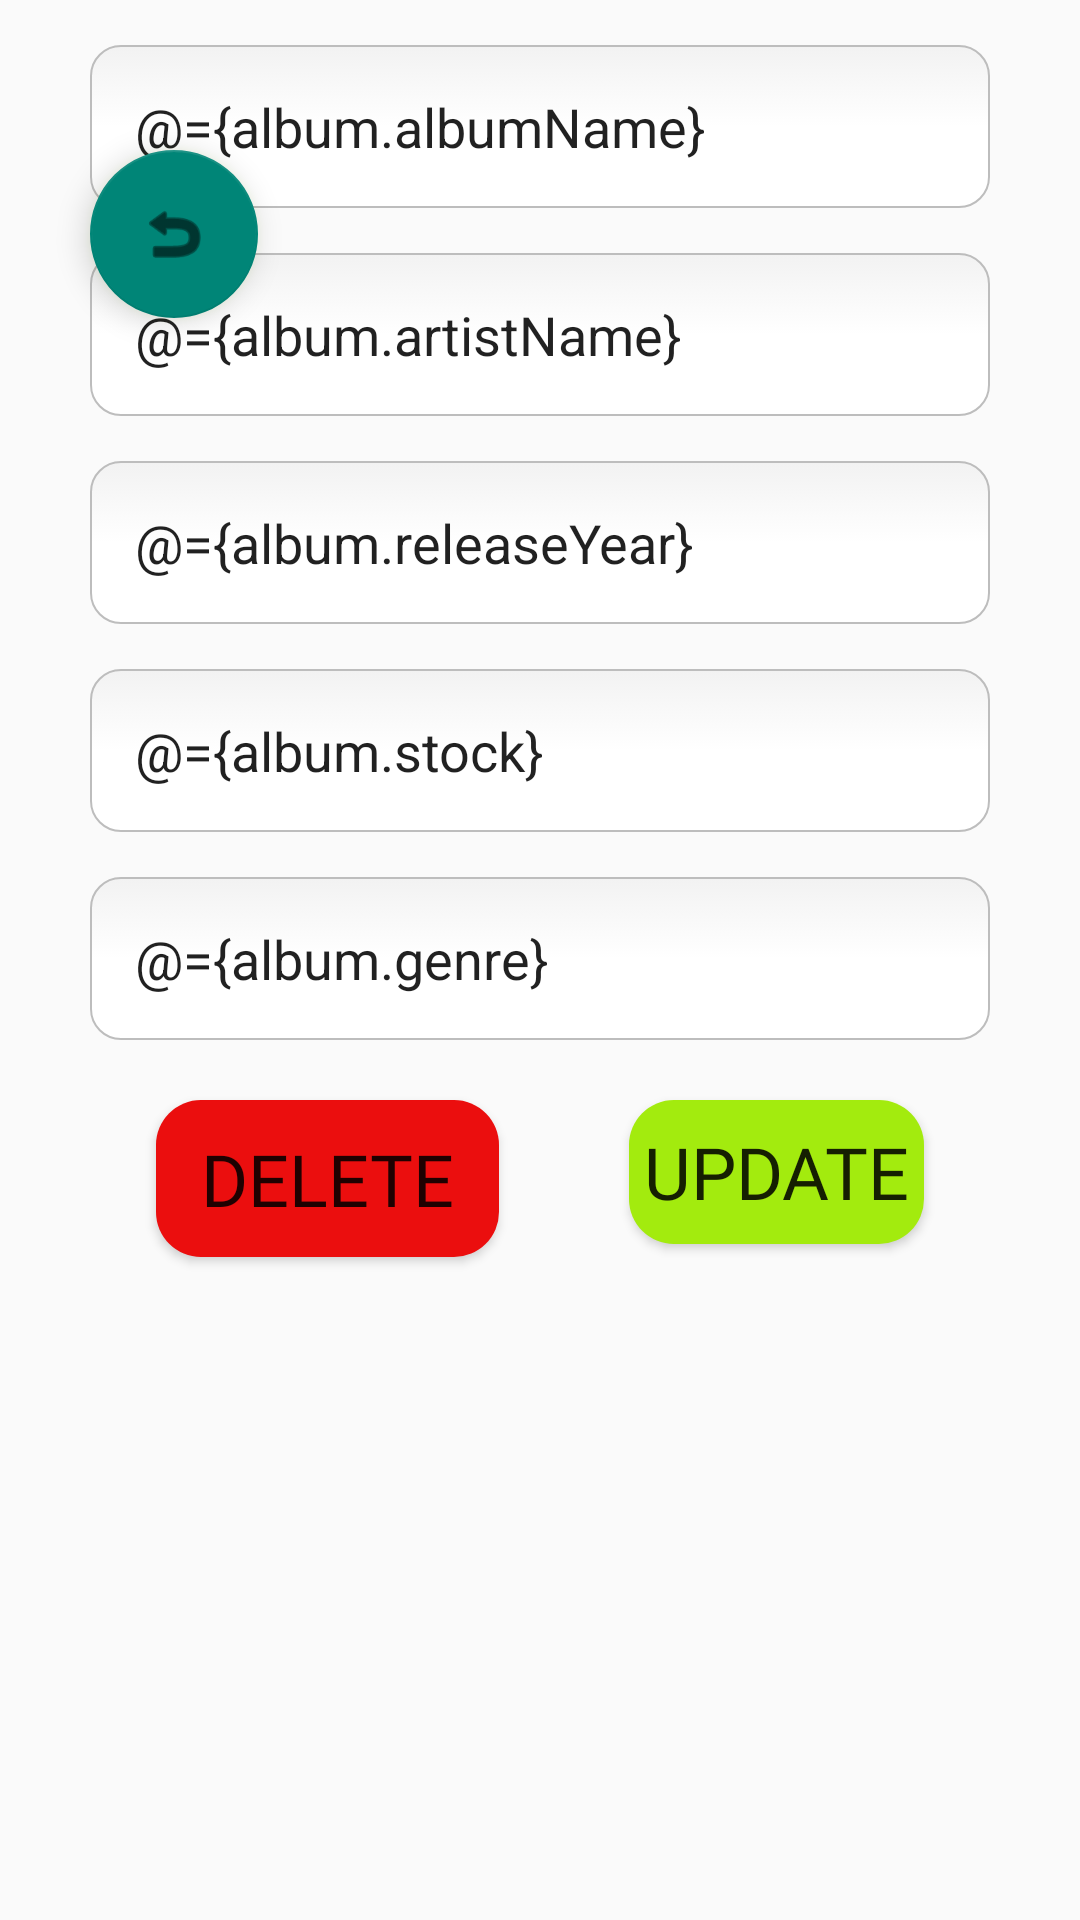

Named icons in this screenshot (1080px×1920px) and their centers, (x=x, y=y):
revert: (x=174, y=234)
